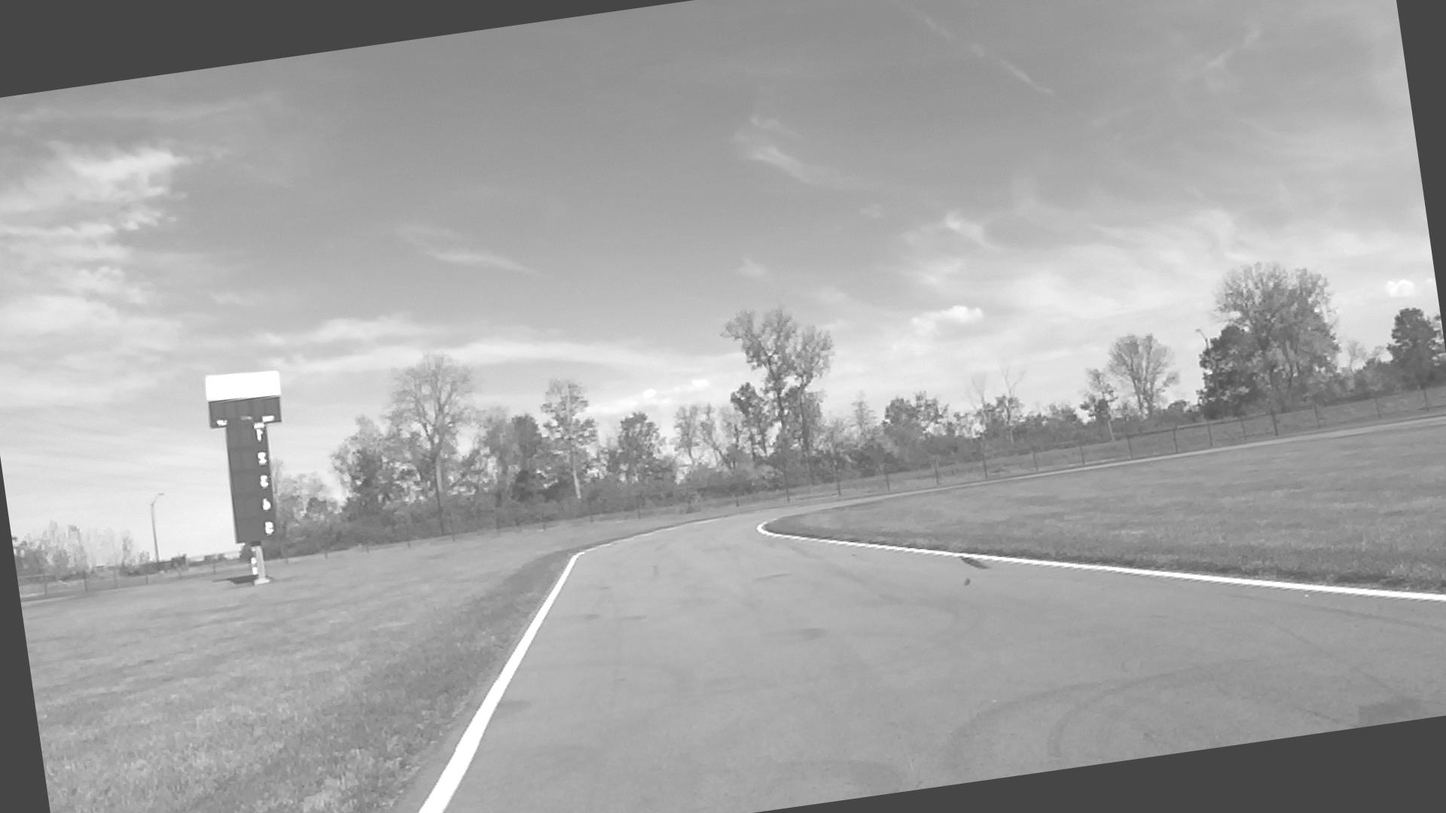white-line: (756, 519, 1446, 603), (416, 540, 628, 813)
